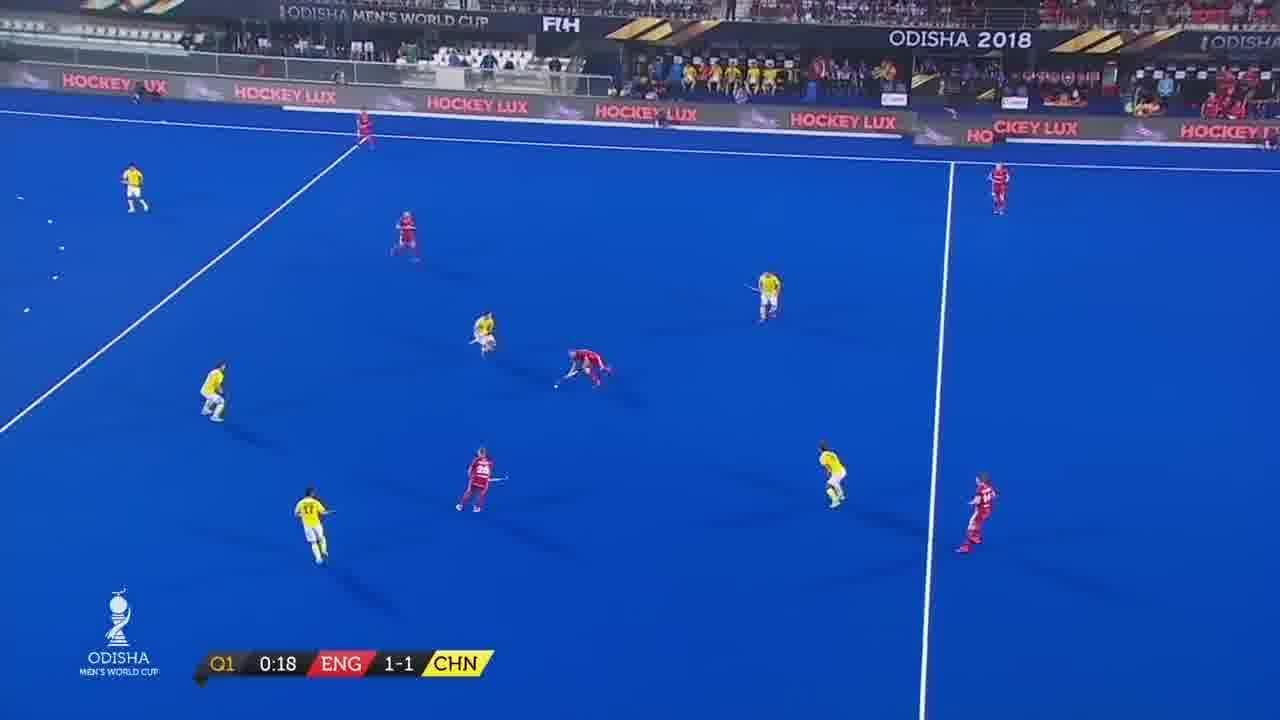ball: (546, 378, 562, 390)
